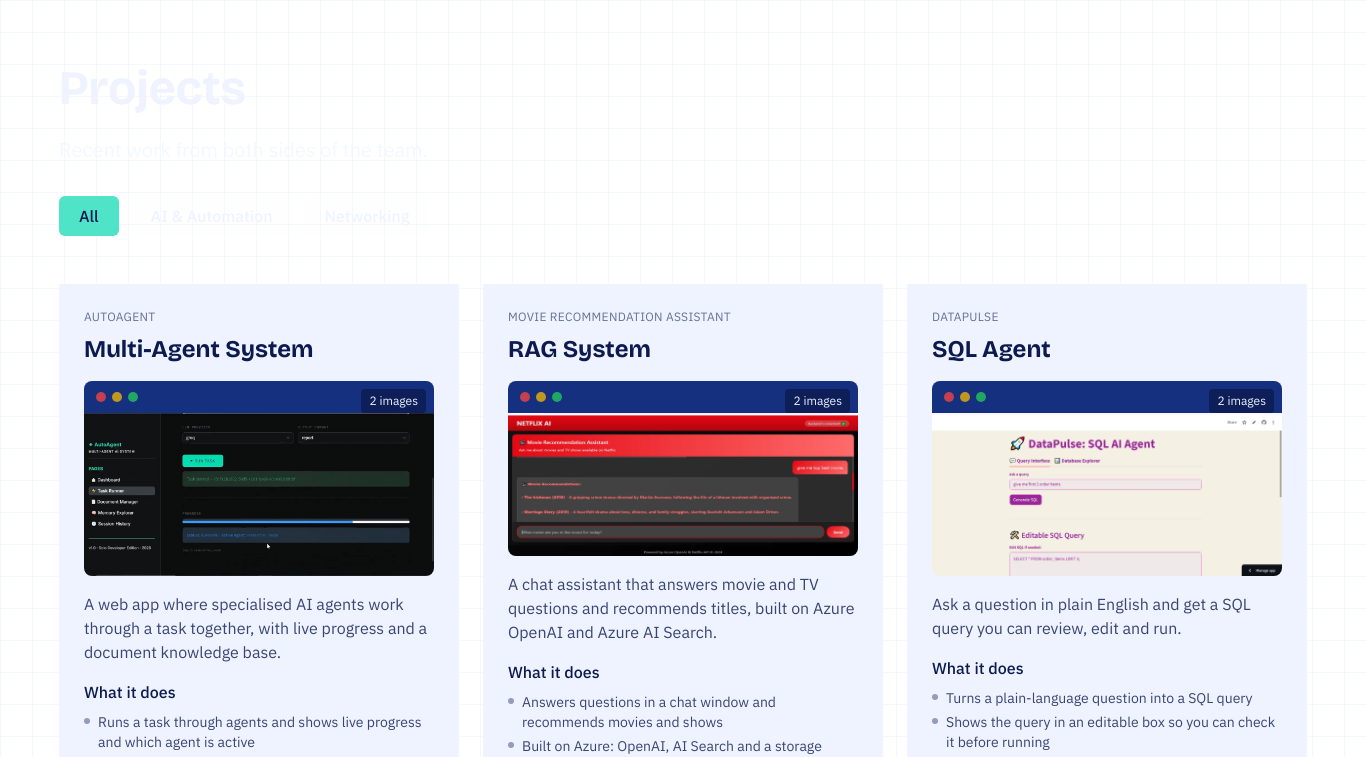
Test case: Lightbox › moves between images of a project and wraps around
Click the button "2 images" below "AutoAgent": (259,478) x1=84 y1=381 x2=434 y2=576
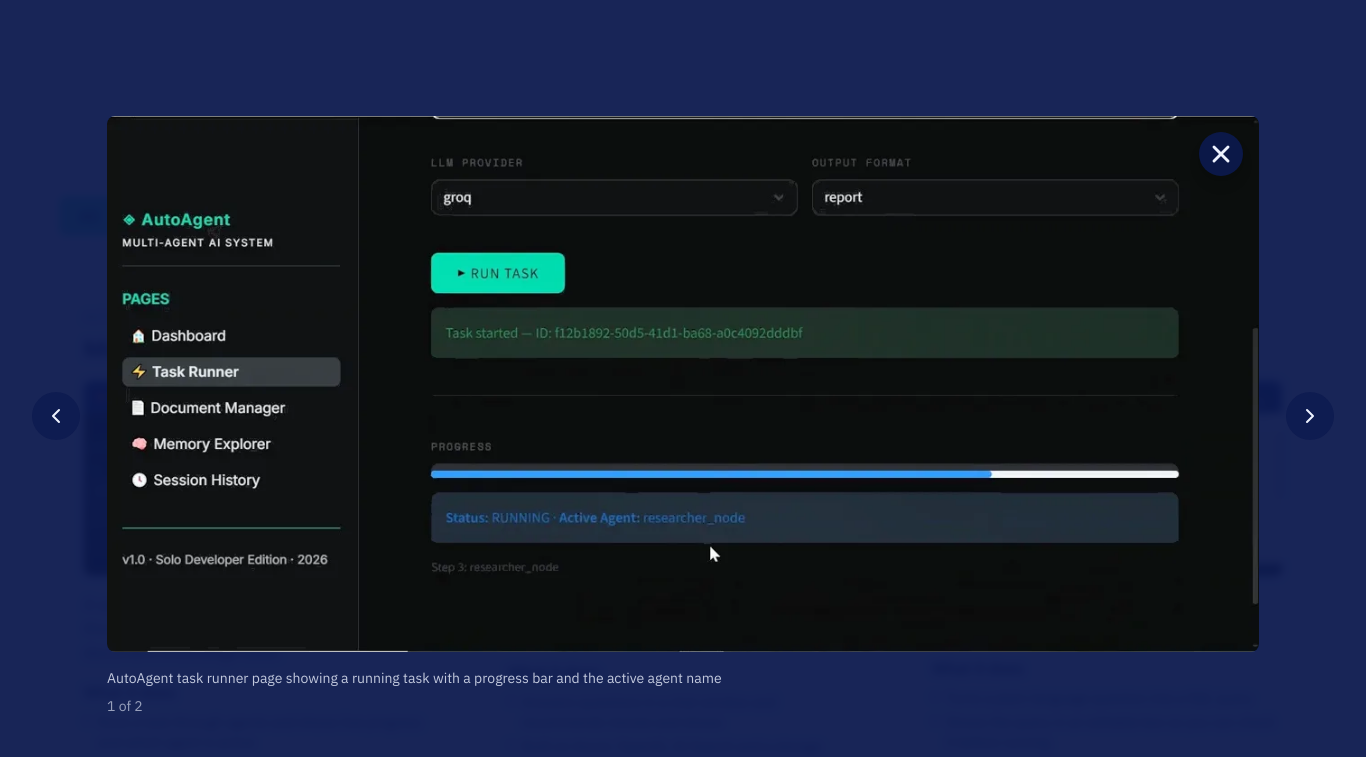
Click the button named "next image": (1310,416) x1=1286 y1=392 x2=1334 y2=440
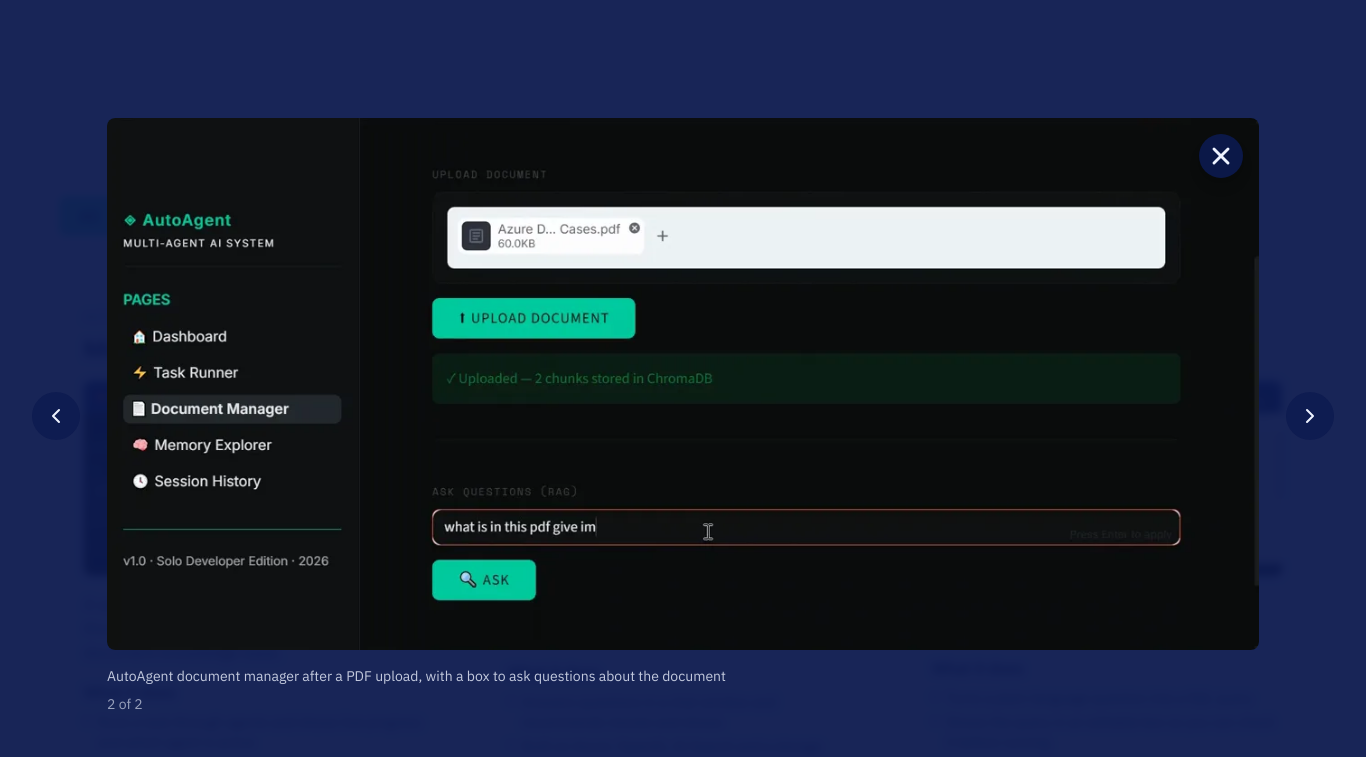
Check: the picture named "AutoAgent document manager after a PDF upload, with a box to ask questions about the document" is shown, box x1=107 y1=118 x2=1259 y2=650
Click the button named "previous image": (56,416) x1=32 y1=392 x2=80 y2=440
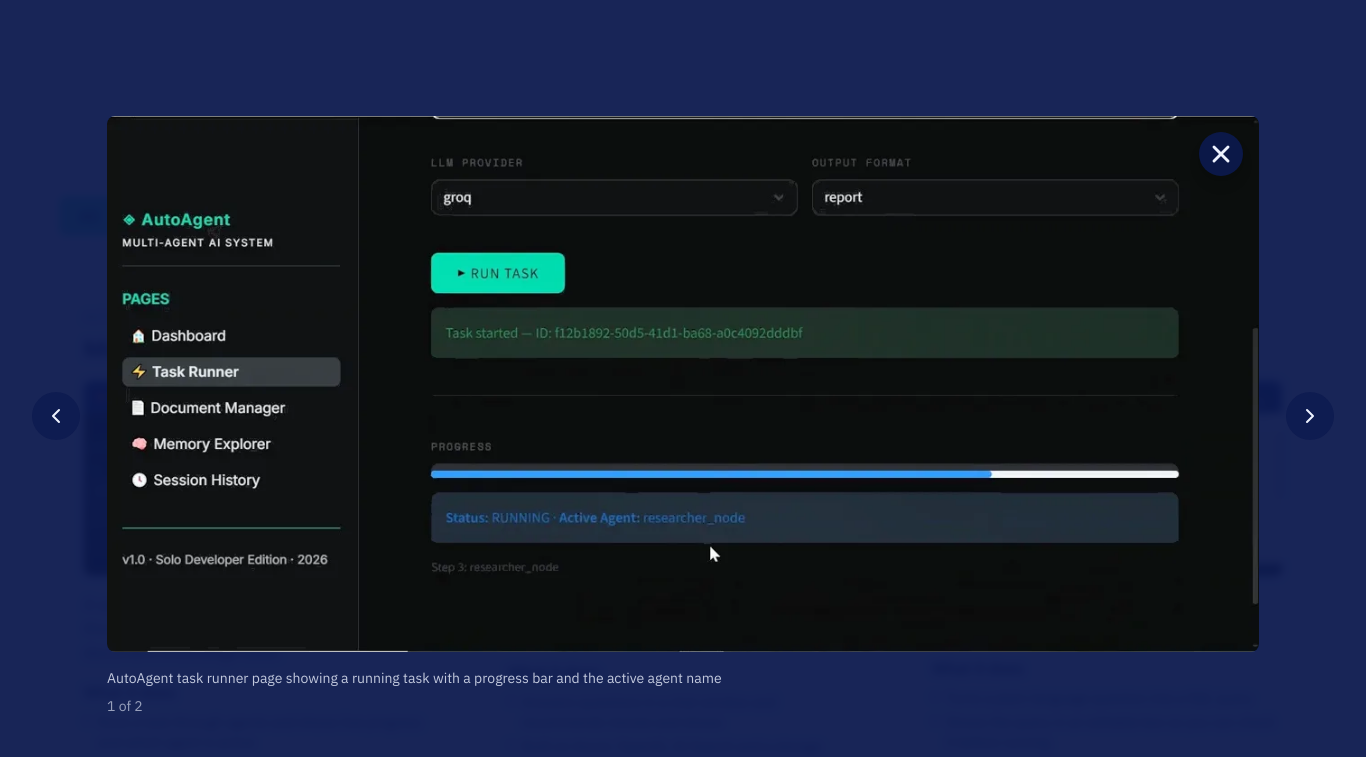
Check: the picture named "AutoAgent task runner page showing a running task with a progress bar and the active agent name" is shown, box x1=107 y1=116 x2=1259 y2=652
